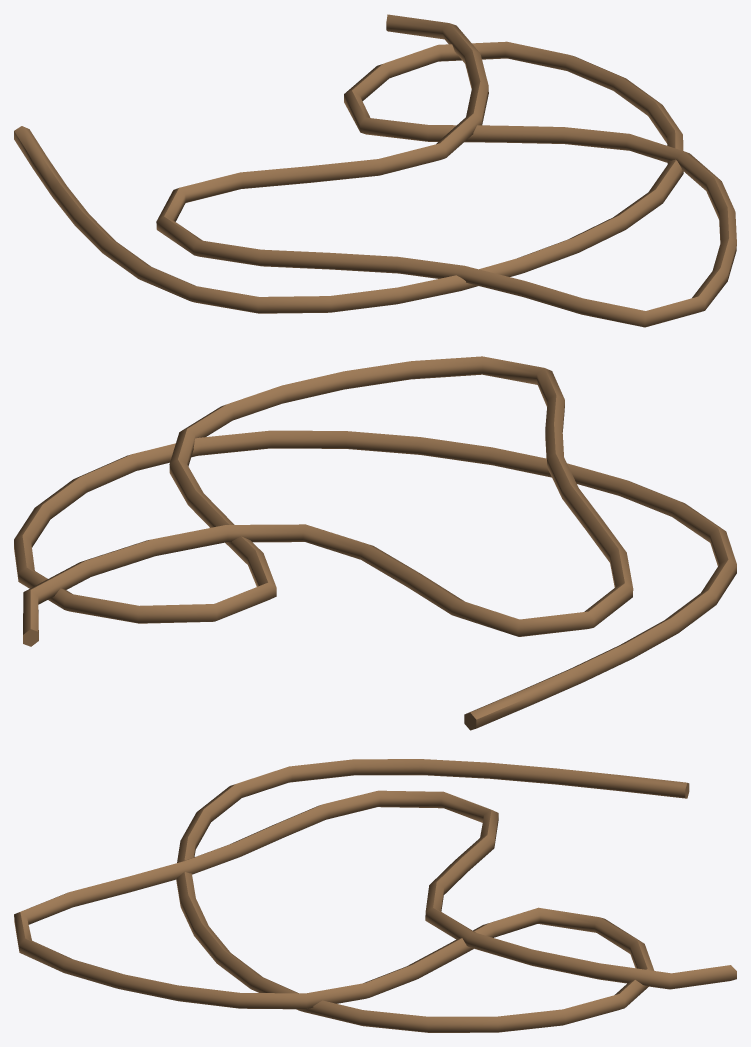
The model's file is Rope Line.fbx.
The picture shows the model from 3 angles, top to bottom: view 1: azimuth 30°, elevation 25°; view 2: azimuth 150°, elevation 25°; view 3: azimuth 270°, elevation 25°; orthographic projection. The views are drawn at different scales.
Parts seen in each view (by area): view 1: Rope_Line; view 2: Rope_Line; view 3: Rope_Line.
Boxes of the visible parts, box(x1,y1,x2,y2) form: Rope_Line: box(14, 14, 736, 327); Rope_Line: box(14, 356, 736, 730); Rope_Line: box(14, 759, 736, 1032).
Size of the model in its own units: 3.71 by 0.186 by 4.28.
